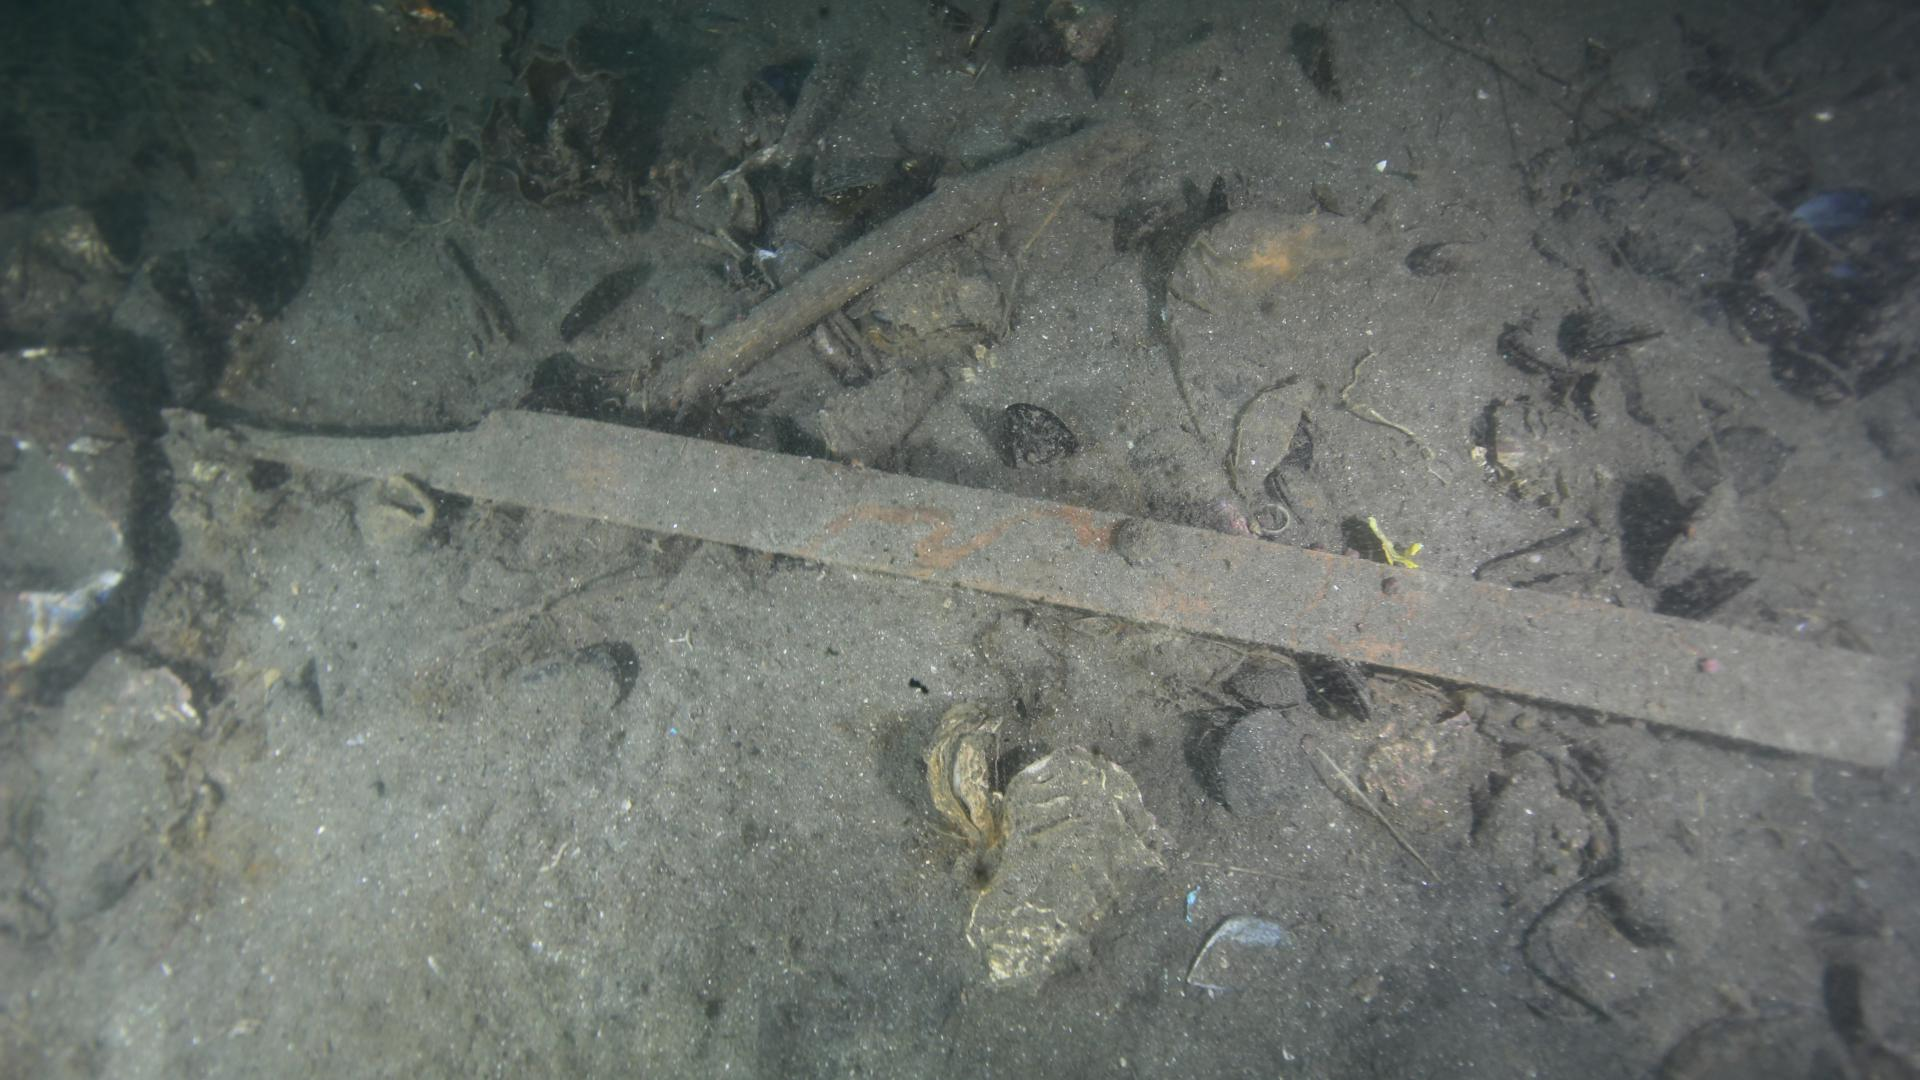wood: (203, 398, 1915, 783)
